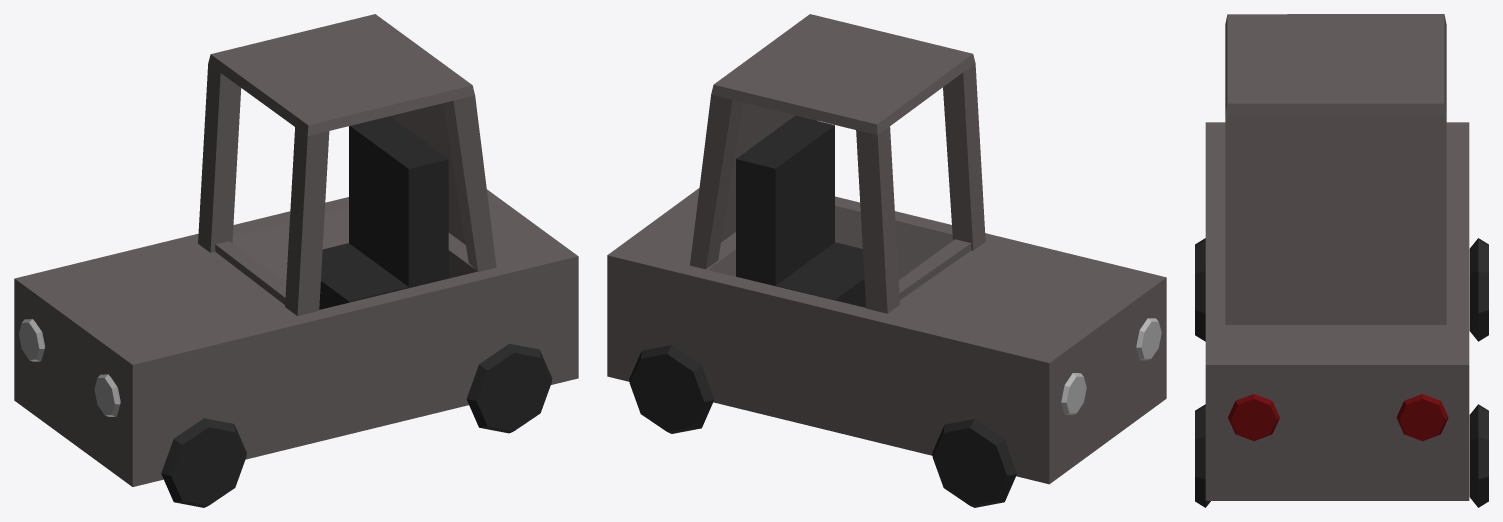
File: Car2.fbx
3 renders of one model, left to right at view 1: azimuth 30°, elevation 25°; view 2: azimuth 150°, elevation 25°; view 3: azimuth 270°, elevation 25°, orthographic. The views are drawn at different scales.
Visible parts, largest first — view 1: Cube; view 2: Cube; view 3: Cube.
Boxes of the visible parts, box(x1,y1,x2,y2) form: Cube: box(14, 14, 578, 507); Cube: box(607, 14, 1166, 507); Cube: box(1195, 14, 1488, 507).
Size of the model in its own units: 631 by 457 by 314.
